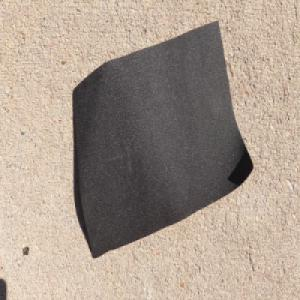PaintChip: (71, 21, 255, 261)
